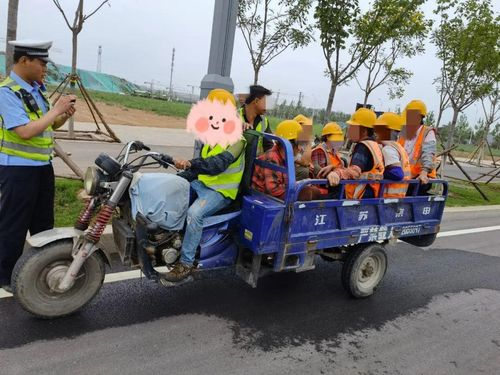driver: (169, 92, 235, 283)
overloading: (12, 83, 454, 316)
passenger: (372, 112, 407, 204), (399, 102, 437, 185), (345, 107, 378, 199), (269, 122, 303, 199), (317, 121, 345, 196), (234, 83, 267, 142)
